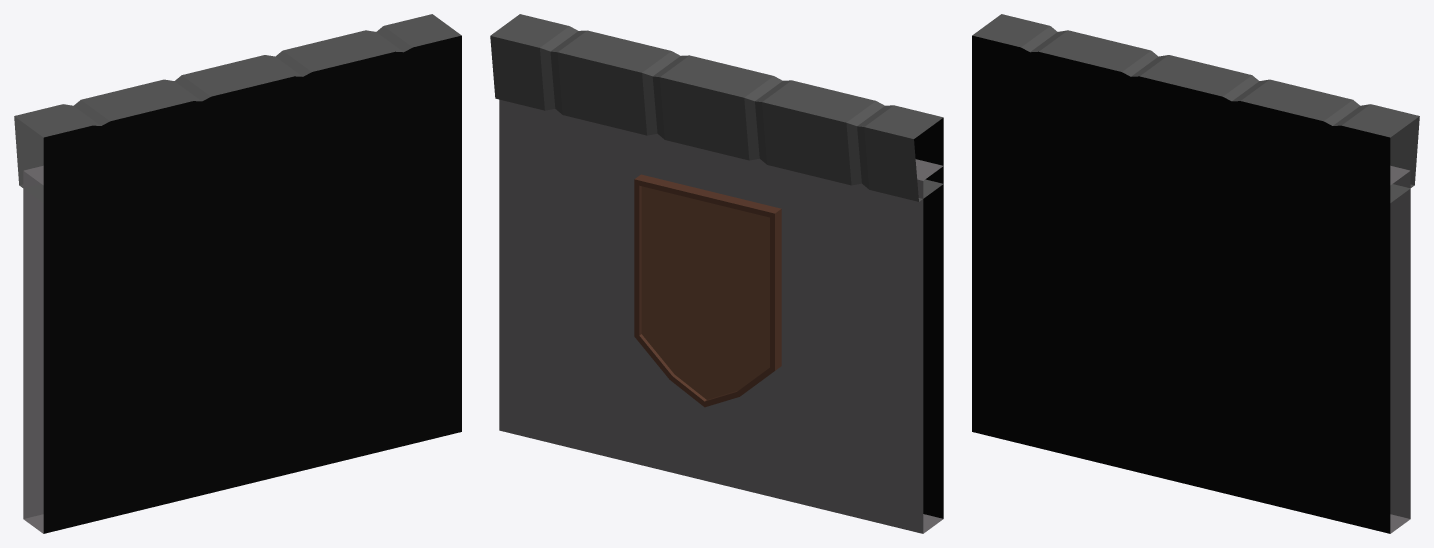
Rendered from Wall_11.fbx.
3 views of the same model, side by side, from view 1: azimuth 30°, elevation 25°; view 2: azimuth 150°, elevation 25°; view 3: azimuth 330°, elevation 25° (orthographic).
Parts seen in each view (by area): view 1: Wall_11; view 2: Wall_11; view 3: Wall_11.
Part boxes in pixels (x1,y1,x2,y2): Wall_11: (14,14,461,533); Wall_11: (490,14,943,533); Wall_11: (972,14,1419,533).
Bounding box in the file's own units: 200 × 181 × 24.35.
